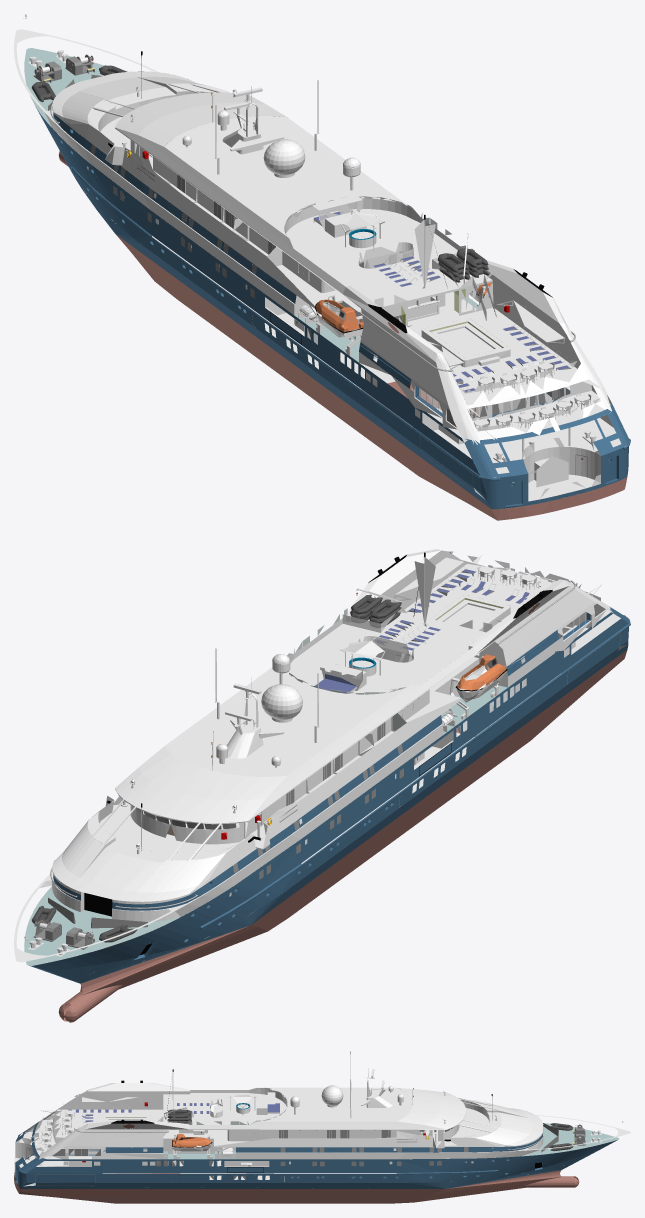
File: clio.glb
The picture shows the model from 3 angles, top to bottom: view 1: azimuth 30°, elevation 25°; view 2: azimuth 150°, elevation 25°; view 3: azimuth 270°, elevation 25°; orthographic projection. The views are drawn at different scales.
Size of the model in its own units: 15.84 by 20.55 by 90.
